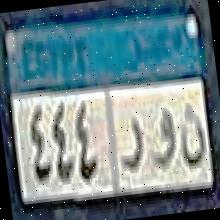4: (68, 94, 102, 190), (23, 102, 56, 190), (46, 99, 78, 188)
noon: (176, 99, 211, 174)
raa: (112, 107, 148, 186)
waw: (144, 99, 180, 181)
